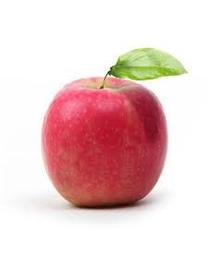apple: (40, 74, 168, 207)
